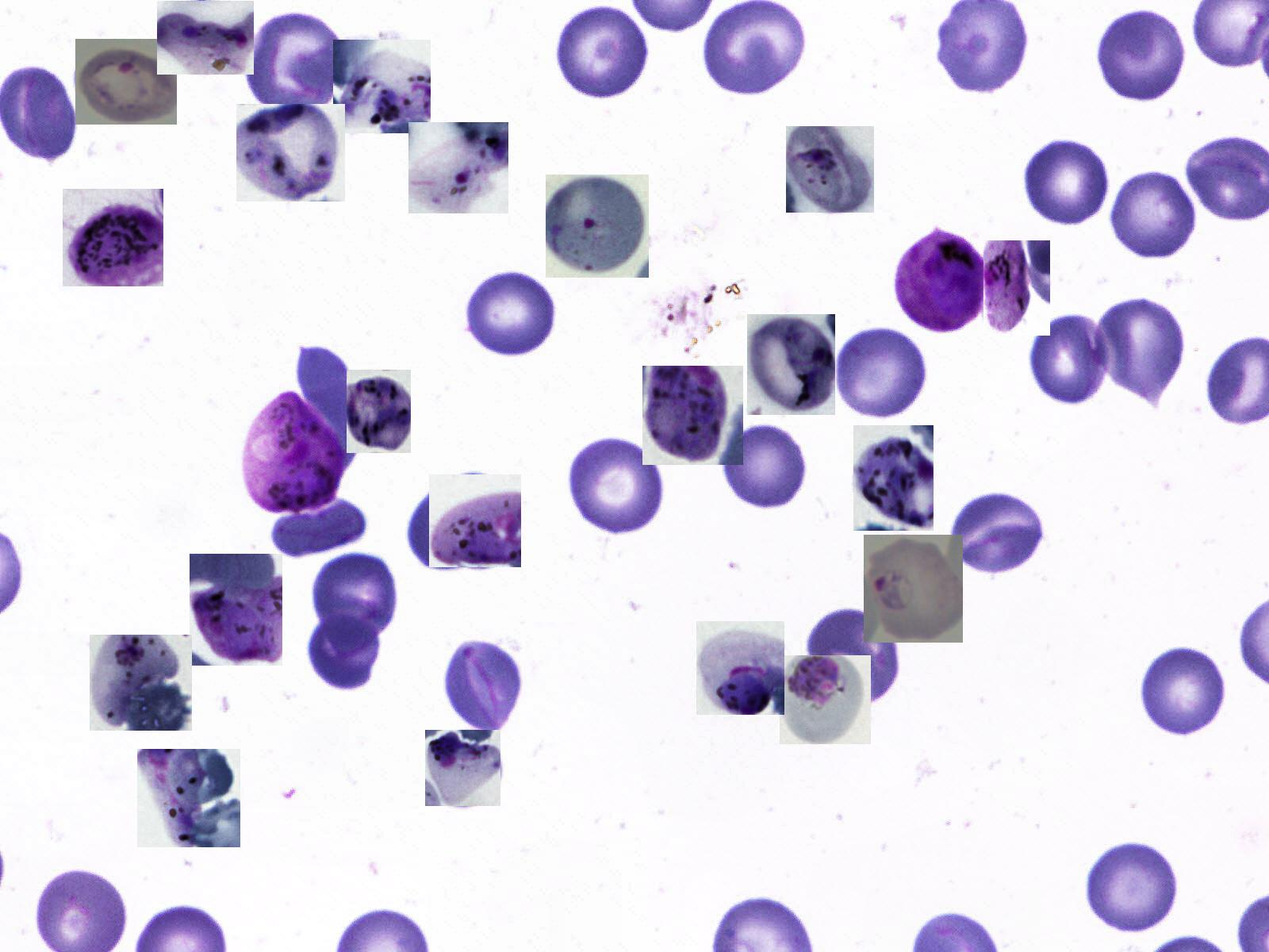Infected: (238, 388, 345, 512), (893, 227, 993, 338), (864, 535, 963, 643), (236, 104, 345, 202), (546, 175, 649, 278), (190, 554, 282, 666), (137, 749, 240, 847), (643, 366, 744, 465), (90, 635, 192, 731), (63, 189, 163, 286), (333, 40, 431, 133), (408, 122, 508, 213), (747, 314, 835, 415), (75, 40, 177, 125), (853, 425, 934, 531), (429, 474, 521, 567), (696, 621, 784, 715), (780, 655, 871, 744), (786, 126, 874, 213), (157, 1, 254, 75), (983, 240, 1050, 336), (425, 730, 500, 806), (347, 370, 411, 453)
Uninfected: (565, 436, 668, 536), (1097, 299, 1190, 409), (249, 13, 347, 115), (459, 263, 562, 360), (805, 606, 905, 704), (1083, 839, 1183, 934), (553, 6, 653, 101), (834, 327, 933, 420), (307, 551, 401, 648), (407, 478, 500, 573), (293, 342, 366, 461), (1140, 645, 1233, 737), (949, 491, 1047, 578), (1097, 10, 1187, 103), (1022, 136, 1114, 226), (1112, 169, 1200, 261), (443, 636, 523, 737), (1026, 311, 1109, 407), (724, 422, 813, 510), (311, 602, 380, 692), (271, 500, 367, 555)
